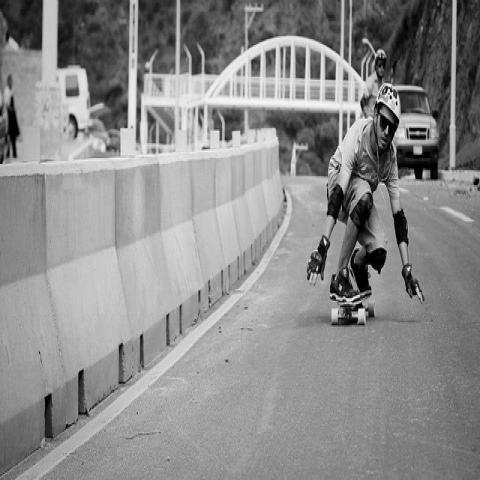car: (57, 66, 92, 138)
truck: (392, 87, 440, 188), (58, 66, 93, 137)
